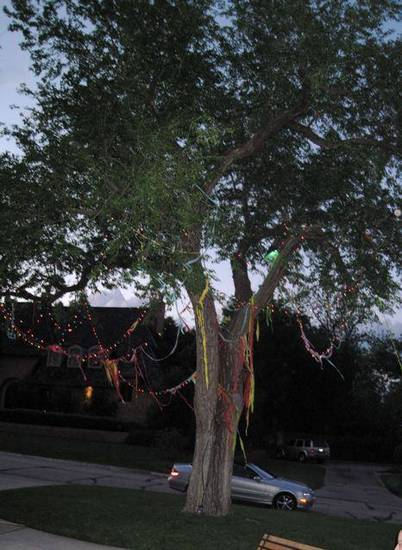tree: (3, 1, 399, 511)
